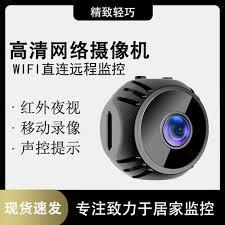maru: (97, 72, 210, 179)
